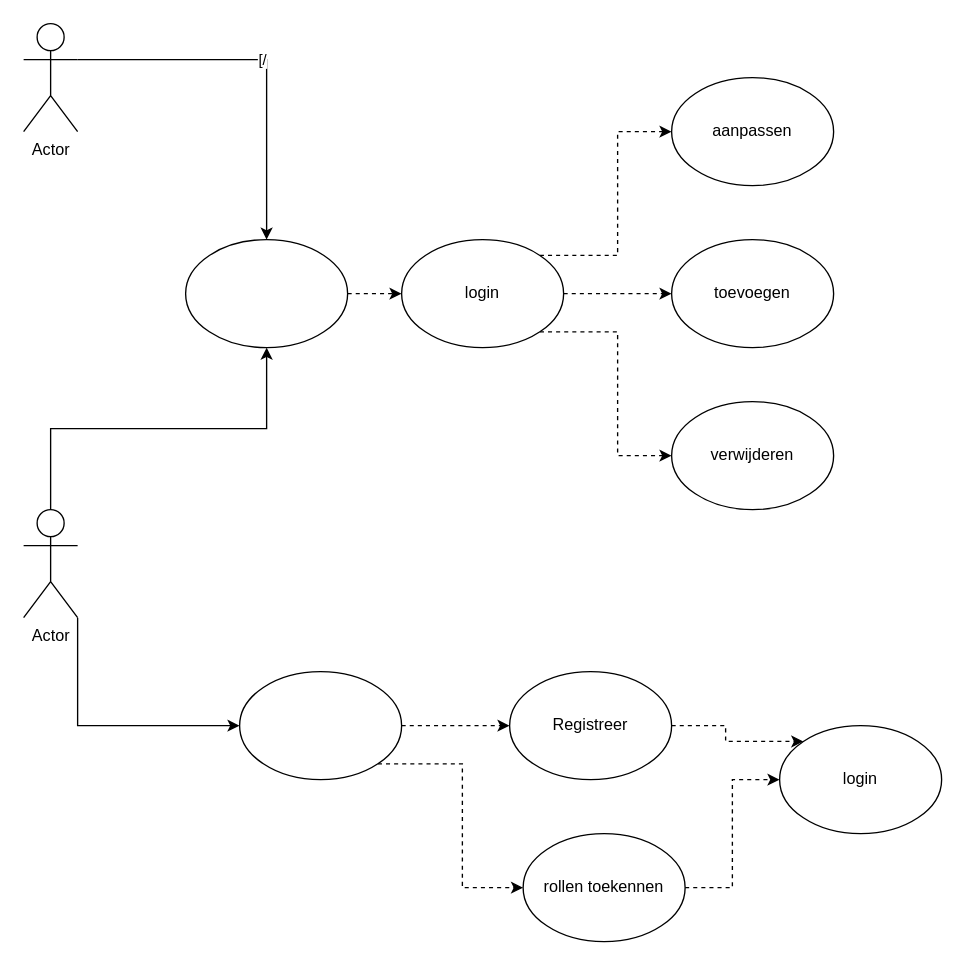
The diagram is 965 pixels wide and 965 high, and some of its shapes have lost their labels. Here are the shapes that lost their labels. From the top down, the centre of each, then its label:
At (266,293): "beheer".
At (320,725): "acount beheer".
